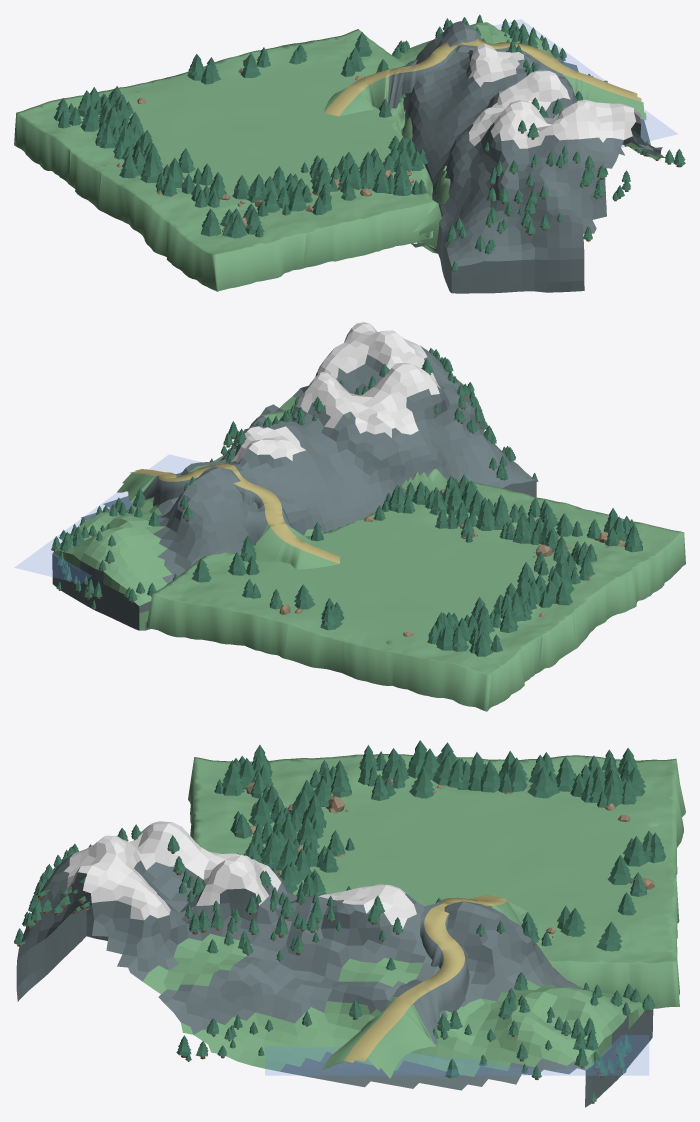
File: level.glb
3 renders of one model, top to bottom at view 1: azimuth 30°, elevation 25°; view 2: azimuth 150°, elevation 25°; view 3: azimuth 270°, elevation 25°, orthographic. The views are drawn at different scales.
Parts seen in each view (by area): view 1: BACKDROP, CHUNK_-021_-002, CHUNK_-023_-003, CHUNK_-021_-003, CHUNK_-024_+000, CHUNK_-022_-003, CHUNK_-024_-002, CHUNK_-024_-001, CHUNK_-024_+002, CHUNK_-024_+001, CHUNK_-022_-002, CHUNK_-020_+002 (+34 smaller); view 2: BACKDROP, CHUNK_-023_+003, CHUNK_-021_+003, CHUNK_-019_+003, CHUNK_-022_+003, CHUNK_-020_+003, CHUNK_-024_+000, CHUNK_-024_+003, CHUNK_-024_+001, CHUNK_-021_-001, CHUNK_-022_-001, CHUNK_-024_-002 (+29 smaller); view 3: BACKDROP, CHUNK_-023_+000, CHUNK_-023_+001, CHUNK_-023_+002, CHUNK_-018_+002, CHUNK_-023_-001, CHUNK_-020_+002, CHUNK_-022_+002, CHUNK_-021_+000, CHUNK_-021_-001, CHUNK_-022_+001, CHUNK_-022_+000 (+36 smaller).
Part boxes in pixels (bbox=[...]): BACKDROP: bbox=[324, 19, 677, 293]; CHUNK_-021_-002: bbox=[313, 148, 404, 210]; CHUNK_-023_-003: bbox=[234, 224, 306, 283]; CHUNK_-021_-003: bbox=[348, 197, 418, 256]; CHUNK_-024_+000: bbox=[98, 150, 165, 229]; CHUNK_-022_-003: bbox=[291, 210, 361, 268]; CHUNK_-024_-002: bbox=[166, 208, 233, 284]; CHUNK_-024_-001: bbox=[134, 173, 200, 256]; CHUNK_-024_+002: bbox=[35, 98, 99, 184]; CHUNK_-024_+001: bbox=[69, 121, 125, 208]; CHUNK_-022_-002: bbox=[259, 169, 348, 223]; CHUNK_-020_+002: bbox=[238, 44, 341, 99]; BACKDROP: bbox=[15, 322, 536, 630]; CHUNK_-023_+003: bbox=[400, 624, 474, 699]; CHUNK_-021_+003: bbox=[284, 598, 360, 674]; CHUNK_-019_+003: bbox=[174, 579, 252, 644]; CHUNK_-022_+003: bbox=[344, 625, 415, 688]; CHUNK_-020_+003: bbox=[231, 589, 308, 658]; CHUNK_-024_+000: bbox=[539, 563, 606, 647]; CHUNK_-024_+003: bbox=[453, 633, 510, 711]; CHUNK_-024_+001: bbox=[508, 602, 576, 671]; CHUNK_-021_-001: bbox=[414, 502, 495, 558]; CHUNK_-022_-001: bbox=[460, 515, 548, 572]; CHUNK_-024_-002: bbox=[605, 524, 670, 600]; BACKDROP: bbox=[16, 821, 653, 1107]; CHUNK_-023_+000: bbox=[382, 748, 471, 817]; CHUNK_-023_+001: bbox=[459, 751, 555, 816]; CHUNK_-023_+002: bbox=[540, 752, 636, 816]; CHUNK_-018_+002: bbox=[547, 921, 632, 997]; CHUNK_-023_-001: bbox=[305, 760, 393, 814]; CHUNK_-020_+002: bbox=[543, 855, 632, 919]; CHUNK_-022_+002: bbox=[541, 807, 637, 848]; CHUNK_-021_+000: bbox=[371, 843, 474, 880]; CHUNK_-021_-001: bbox=[303, 817, 402, 881]; CHUNK_-022_+001: bbox=[459, 808, 559, 850]; CHUNK_-022_+000: bbox=[376, 807, 471, 851].
Size of the model in its own units: 322 by 95.66 by 302.
